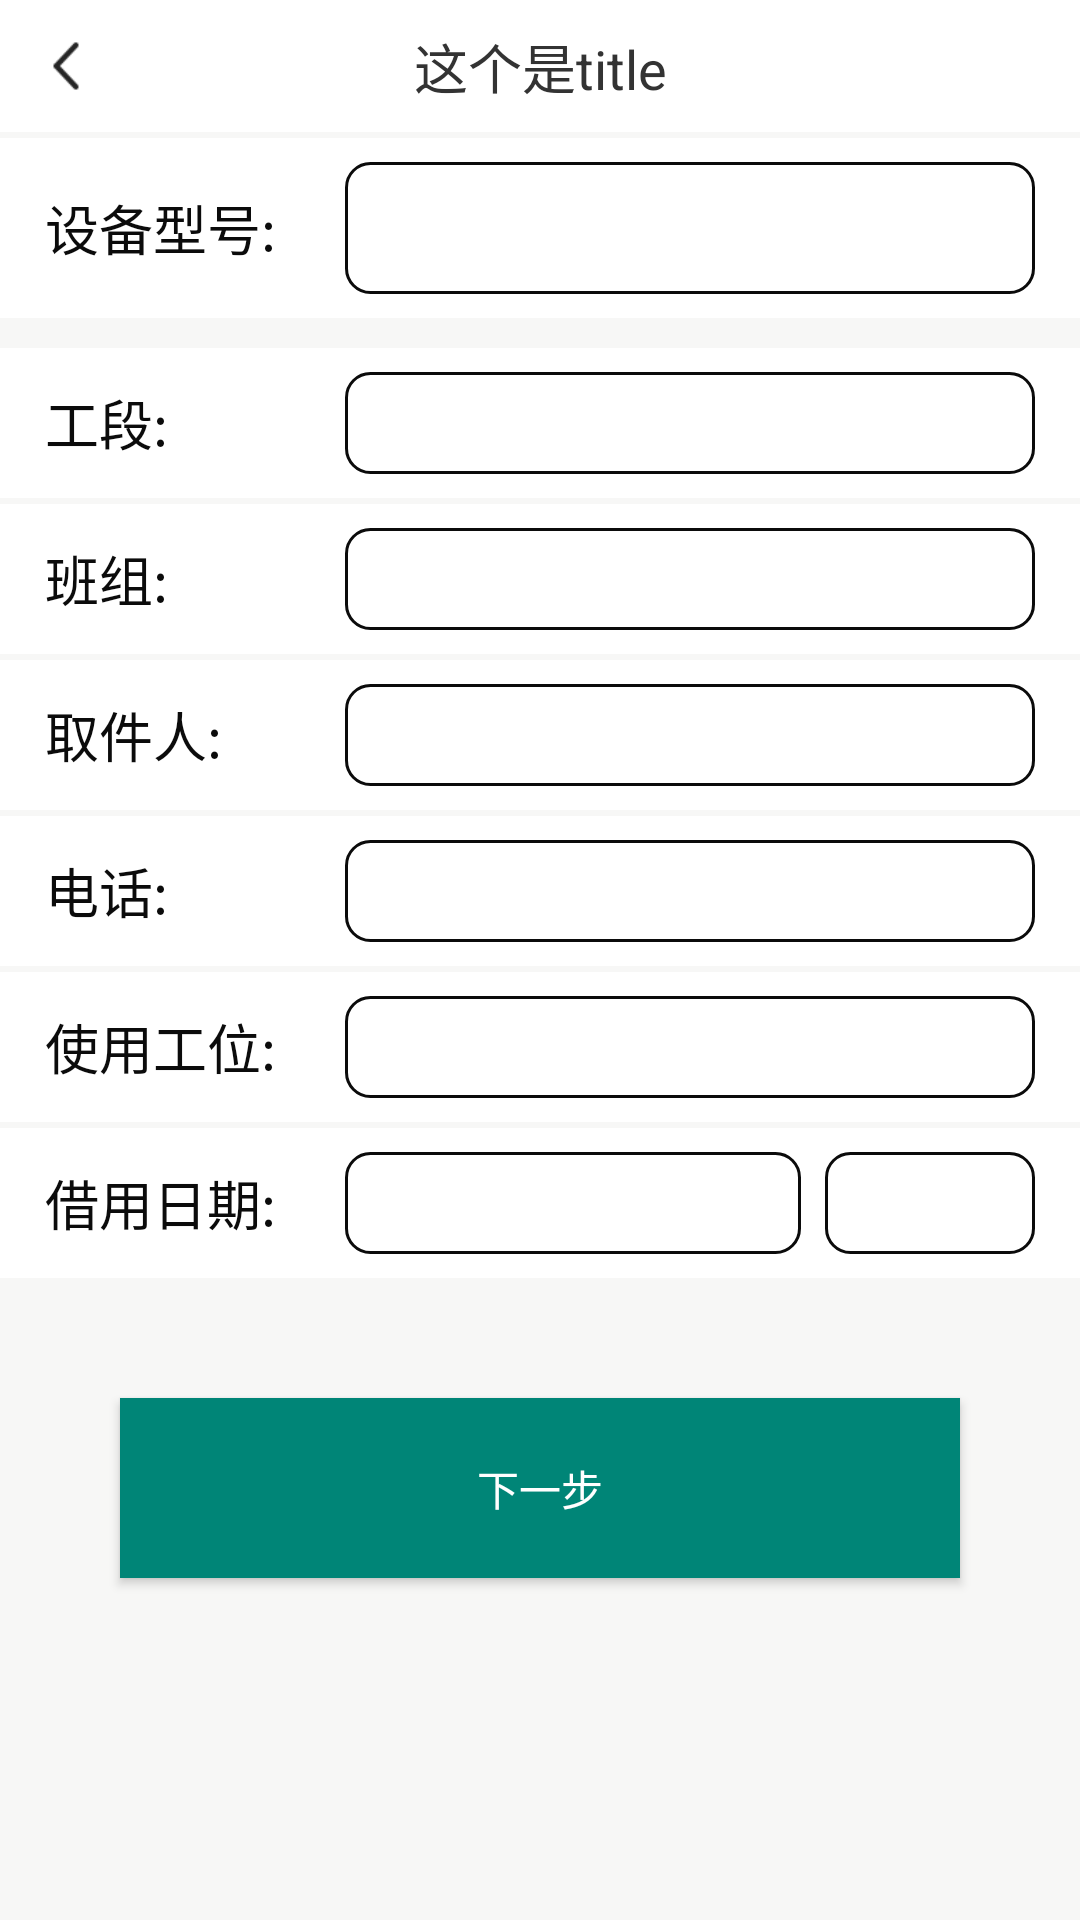

Icons on this 1080x1920 Android screen, each with its box as (x1, y1, x2, y2):
back: (53, 42, 79, 90)
